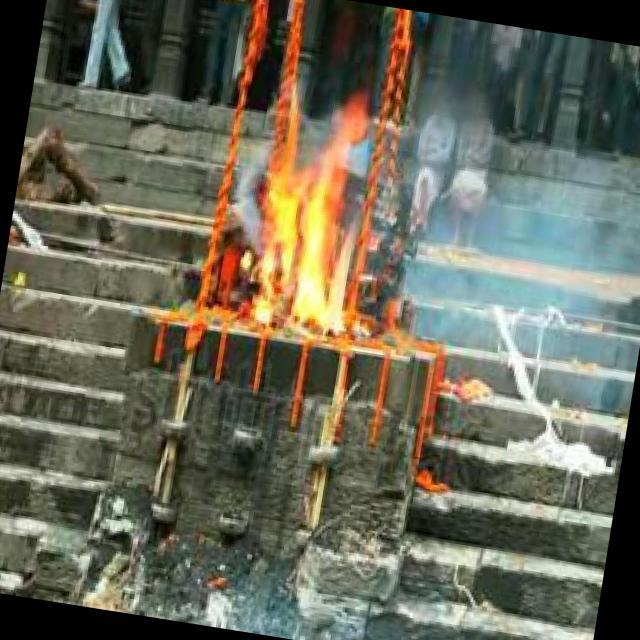Fire: (247, 111, 390, 339)
